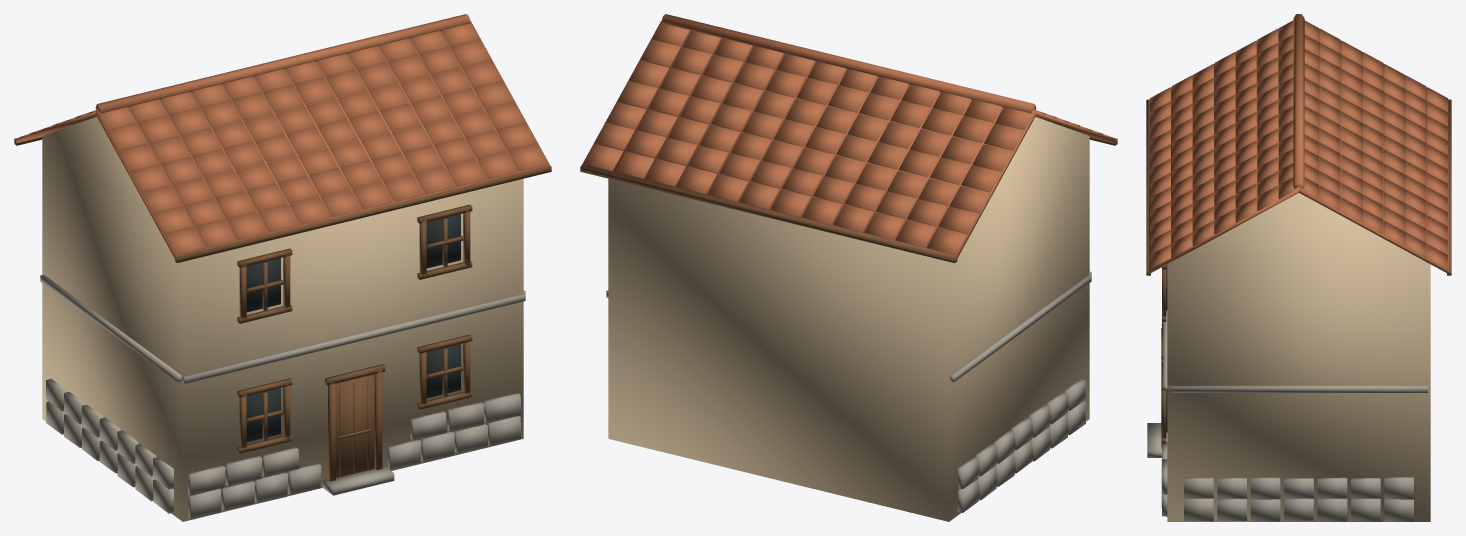
The model's file is house-peru-01.glb.
3 renders of one model, left to right at view 1: azimuth 30°, elevation 25°; view 2: azimuth 150°, elevation 25°; view 3: azimuth 270°, elevation 25°, orthographic. The views are drawn at different scales.
Visible parts, largest first — view 1: House_Walls, House_Roof, House_Stone, House_Wood, House_Windows; view 2: House_Walls, House_Roof, House_Stone, House_Wood; view 3: House_Walls, House_Roof, House_Stone, House_Wood.
Boxes of the visible parts, <box> form: House_Walls: <box>42,117,523,521</box>; House_Roof: <box>15,14,550,259</box>; House_Stone: <box>40,274,525,519</box>; House_Wood: <box>14,137,551,481</box>; House_Windows: <box>246,214,460,441</box>; House_Walls: <box>608,117,1089,521</box>; House_Roof: <box>581,14,1116,258</box>; House_Stone: <box>606,271,1091,512</box>; House_Wood: <box>580,137,1117,262</box>; House_Walls: <box>1167,193,1430,521</box>; House_Roof: <box>1148,14,1449,273</box>; House_Stone: <box>1147,310,1427,521</box>; House_Wood: <box>1146,99,1451,448</box>.
Bounding box in the file's own units: 7.7 × 7.25 × 5.8.
